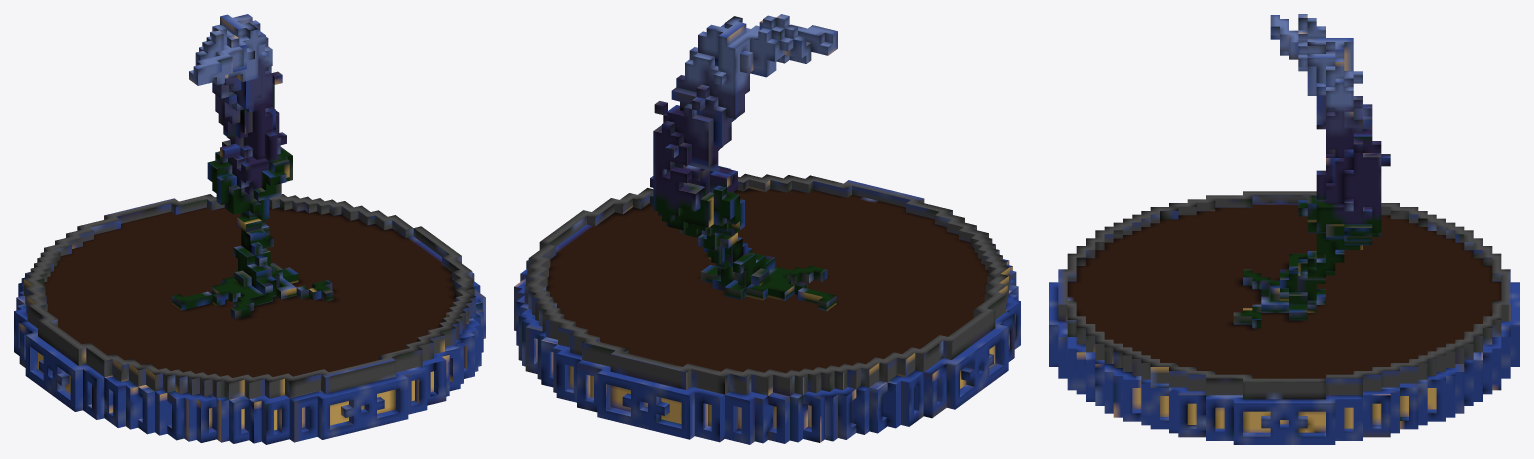
The model's file is CultureWithPlante.fbx.
3 views of the same model, side by side, from view 1: azimuth 30°, elevation 25°; view 2: azimuth 150°, elevation 25°; view 3: azimuth 270°, elevation 25° (orthographic). The views are drawn at different scales.
Visible parts, largest first — view 1: CultureWithPlante.001; view 2: CultureWithPlante.001; view 3: CultureWithPlante.001.
Boxes of the visible parts, box(x1,y1,x2,y2) form: CultureWithPlante.001: box(14, 14, 485, 444); CultureWithPlante.001: box(514, 14, 1020, 444); CultureWithPlante.001: box(1049, 14, 1519, 444).
Bounding box in the file's own units: 5.1 × 3.8 × 5.1.
Materials: 1 (1 with a texture image).
